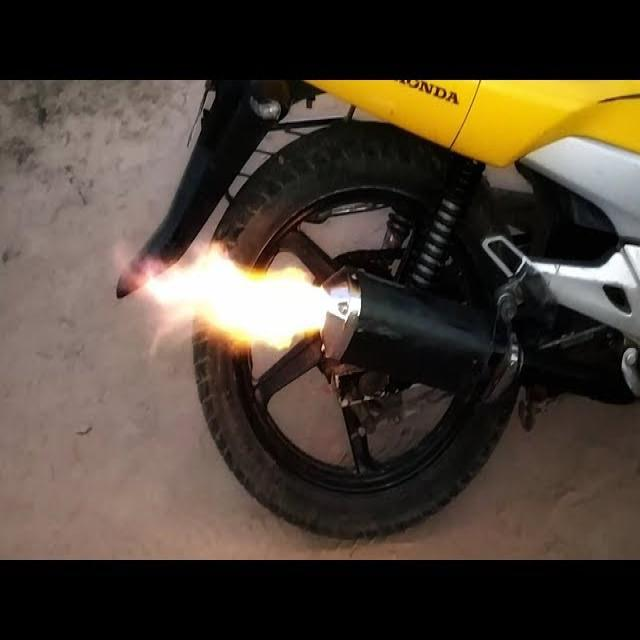fire: (115, 239, 328, 351)
